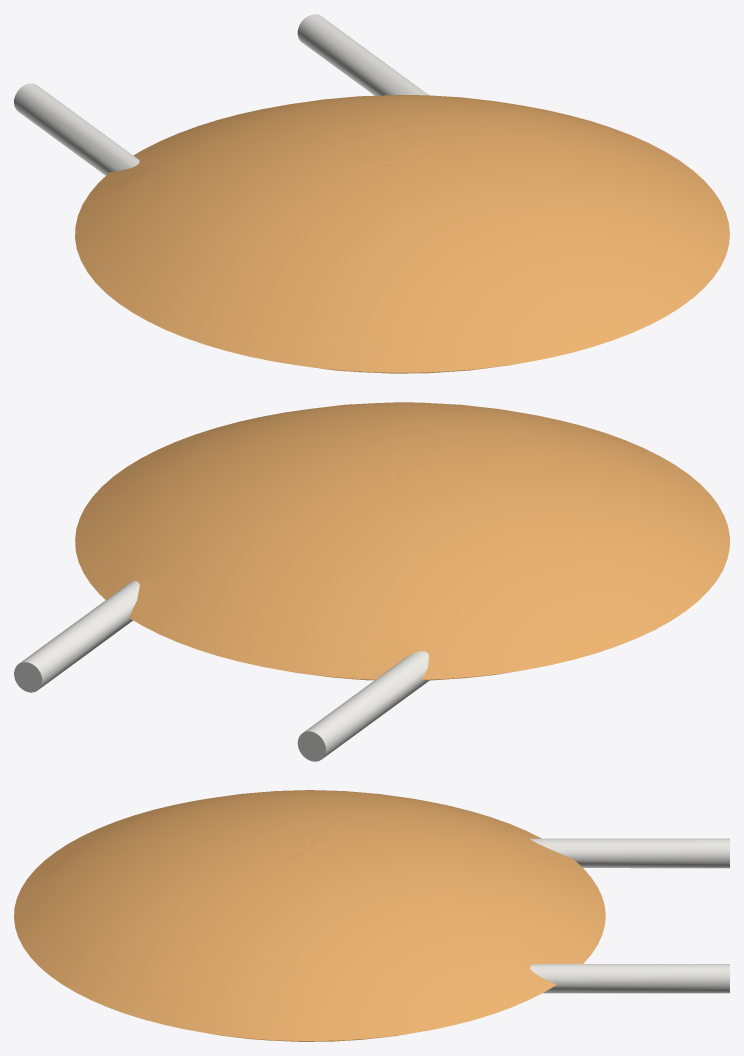
The model's file is C_Disc_D10.0mm_W2.5mm_P5.00mm.glb.
The picture shows the model from 3 angles, top to bottom: view 1: azimuth 30°, elevation 25°; view 2: azimuth 150°, elevation 25°; view 3: azimuth 270°, elevation 25°; orthographic projection. The views are drawn at different scales.
Parts seen in each view (by area): view 1: Shape_IndexedFaceSet.003, Shape_IndexedFaceSet.001, Shape_IndexedFaceSet.004; view 2: Shape_IndexedFaceSet.003, Shape_IndexedFaceSet.001, Shape_IndexedFaceSet.004, Shape_IndexedFaceSet.005, Shape_IndexedFaceSet; view 3: Shape_IndexedFaceSet.003, Shape_IndexedFaceSet.004, Shape_IndexedFaceSet.001.
Part boxes in pixels (x1,y1,x2,y2): Shape_IndexedFaceSet.003: (75,95,729,372); Shape_IndexedFaceSet.001: (14,83,139,175); Shape_IndexedFaceSet.004: (297,14,428,95); Shape_IndexedFaceSet.003: (75,402,729,679); Shape_IndexedFaceSet.001: (304,651,429,758); Shape_IndexedFaceSet.004: (19,581,139,688); Shape_IndexedFaceSet.005: (14,662,42,692); Shape_IndexedFaceSet: (297,731,325,761); Shape_IndexedFaceSet.003: (14,790,605,1040); Shape_IndexedFaceSet.004: (530,964,729,993); Shape_IndexedFaceSet.001: (530,838,729,868).
Size of the model in its own units: 3.94 by 0.9839 by 4.76.
